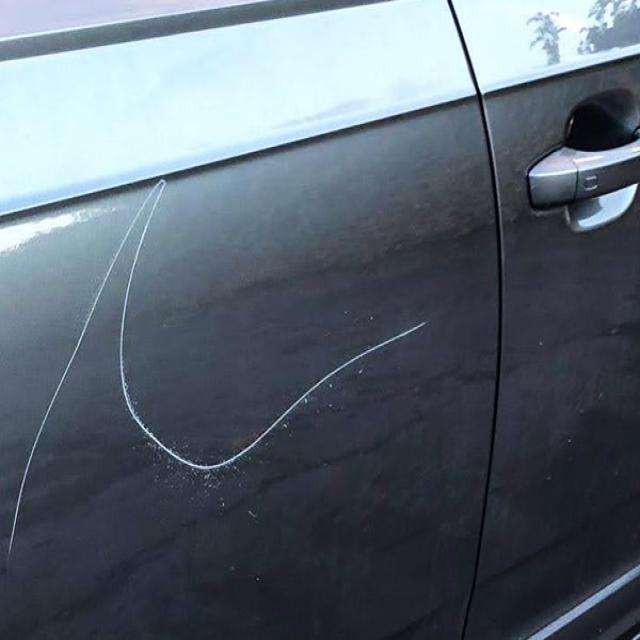paint-trace: (0, 105, 444, 566)
